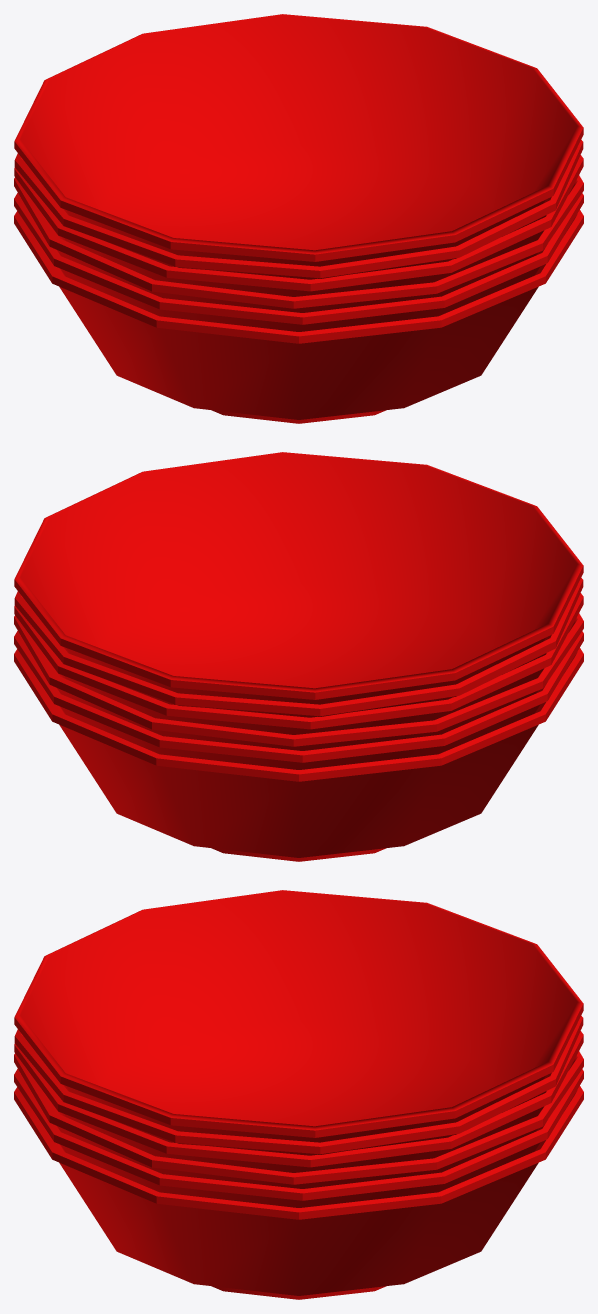
Rendered from BowlStacked.fbx.
The picture shows the model from 3 angles, top to bottom: view 1: azimuth 30°, elevation 25°; view 2: azimuth 150°, elevation 25°; view 3: azimuth 270°, elevation 25°; orthographic projection.
Parts seen in each view (by area): view 1: BowlStacked; view 2: BowlStacked; view 3: BowlStacked.
Part boxes in pixels (bbox=[...]): BowlStacked: bbox=[14, 14, 583, 423]; BowlStacked: bbox=[14, 452, 583, 861]; BowlStacked: bbox=[14, 890, 583, 1299].
Bounding box in the file's own units: 133 × 58.65 × 133.
